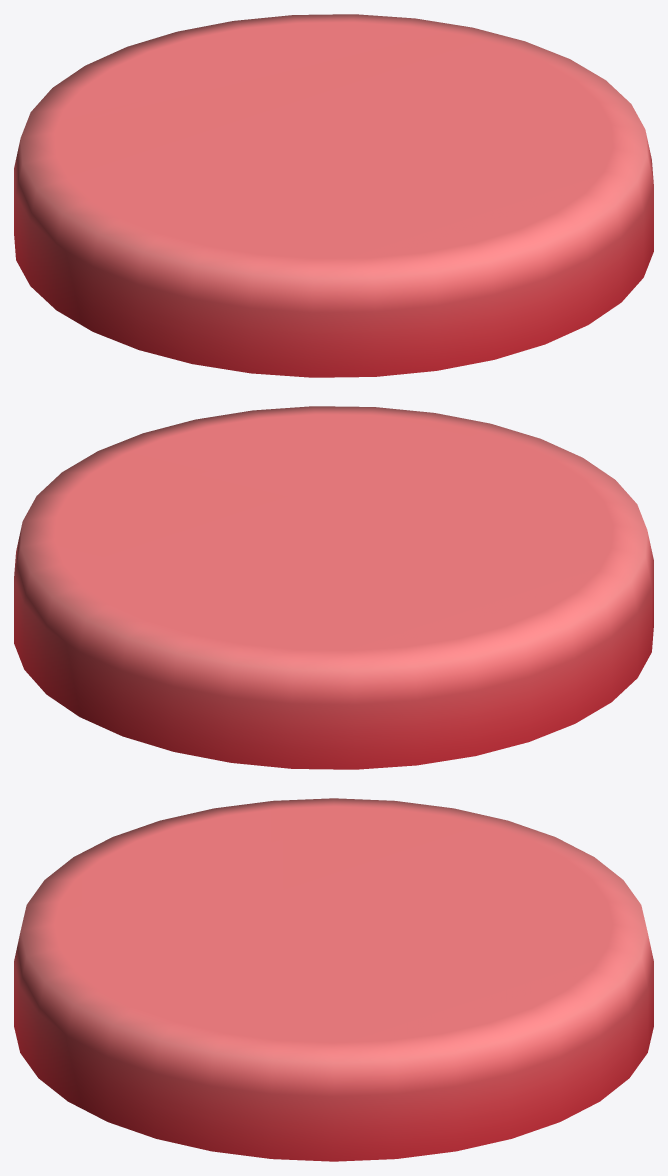
The model's file is Small_VCilinder.fbx.
3 views of the same model, one above another, from view 1: azimuth 30°, elevation 25°; view 2: azimuth 150°, elevation 25°; view 3: azimuth 270°, elevation 25° (orthographic).
Visible parts, largest first — view 1: Circle.006; view 2: Circle.006; view 3: Circle.006.
Part boxes in pixels (x1,y1,x2,y2): Circle.006: (14, 14, 653, 377); Circle.006: (14, 406, 653, 769); Circle.006: (14, 798, 653, 1161).
Size of the model in its own units: 149 by 26.19 by 149.
